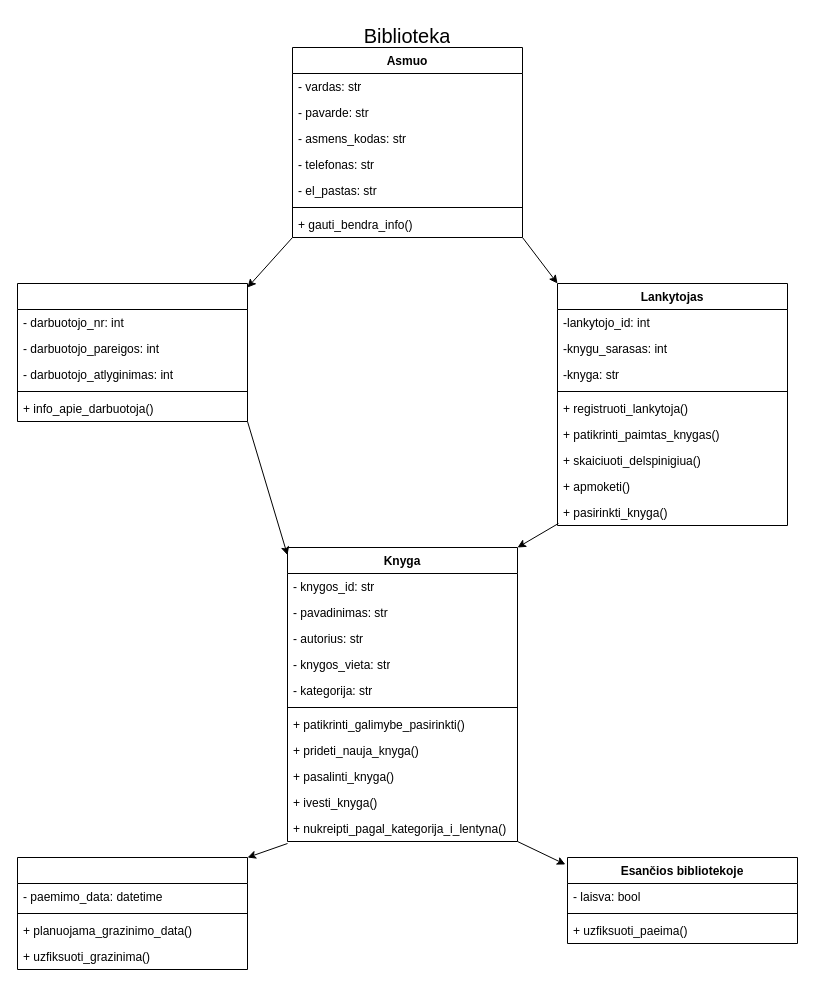
The diagram is 815 pixels wide and 989 high, and some of its shapes have lost their labels. The shapes that lost their labels are listed below. From the top down, each one's box as (x1, y1, x2, y2) in pixels, then its label:
(16, 282, 248, 422): Bibliotekos darbuotojas
(16, 856, 248, 970): Paskolintos knygos
